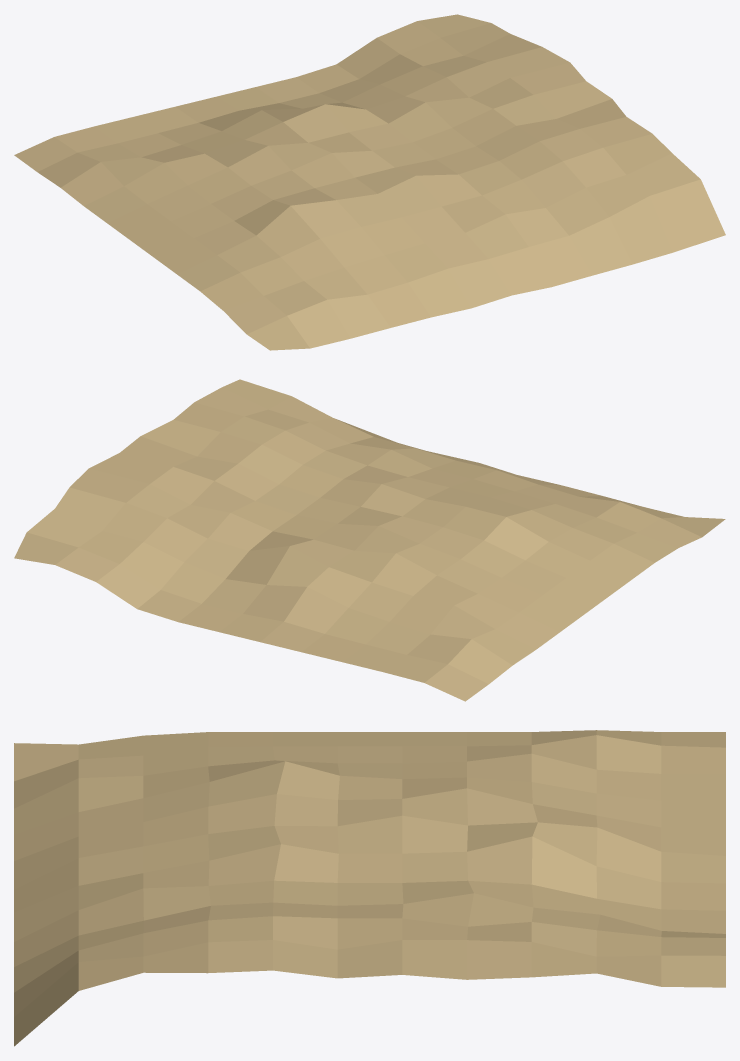
File: beach_sand.fbx
3 renders of one model, top to bottom at view 1: azimuth 30°, elevation 25°; view 2: azimuth 150°, elevation 25°; view 3: azimuth 270°, elevation 25°, orthographic. The views are drawn at different scales.
Parts seen in each view (by area): view 1: Beach; view 2: Beach; view 3: Beach.
Part boxes in pixels (x1=…): Beach: x1=14, y1=14, x2=725, y2=350; Beach: x1=14, y1=379, x2=725, y2=701; Beach: x1=14, y1=730, x2=725, y2=1046.
Size of the model in its own units: 864 by 114 by 827.
